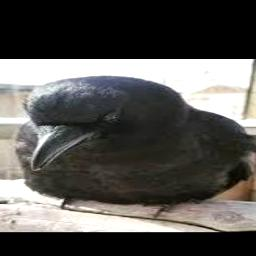Crow: (14, 75, 256, 219)
